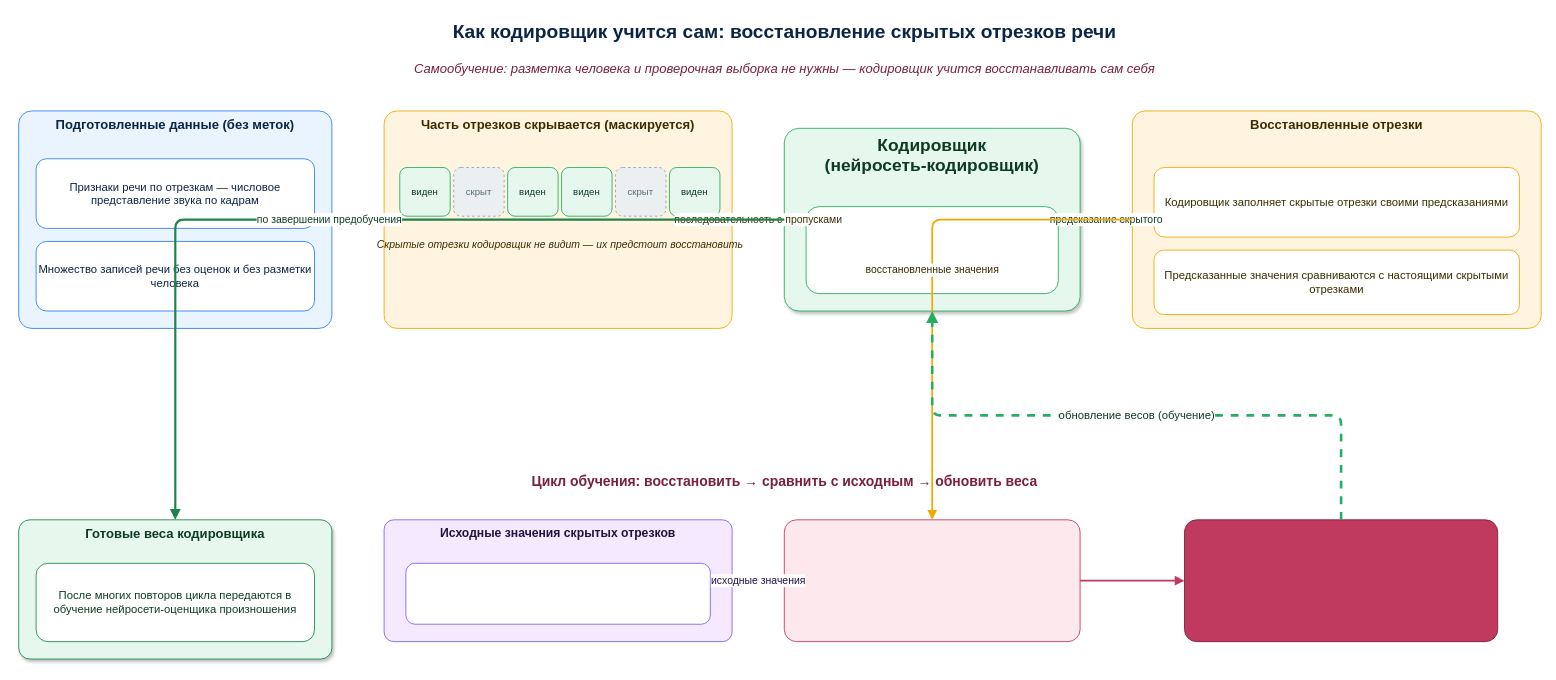
The diagram is 1556 pixels wide and 680 high, and some of its shapes have lost their labels. Each missing label, with the centre of its shape:
Восстанавливает скрытое, опираясь на соседние видимые отрезки (контекст): point (931, 250)
Настоящие значения отрезков до того, как их скрыли: point (557, 593)
Ошибка восстановления (насколько предсказание отличается от исходного): point (1341, 580)
Сравнение восстановленного с исходным: point (931, 580)
